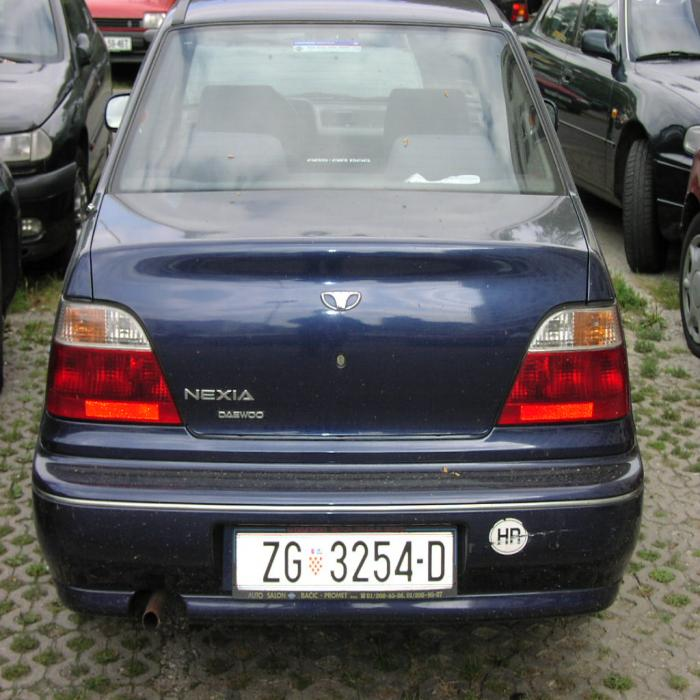number_plate: (237, 533, 452, 589)
